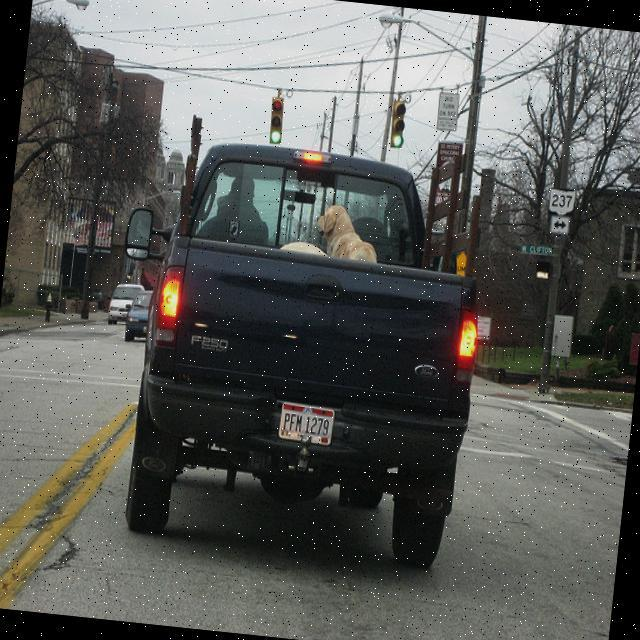fire_hydrant: (42, 292, 54, 322)
